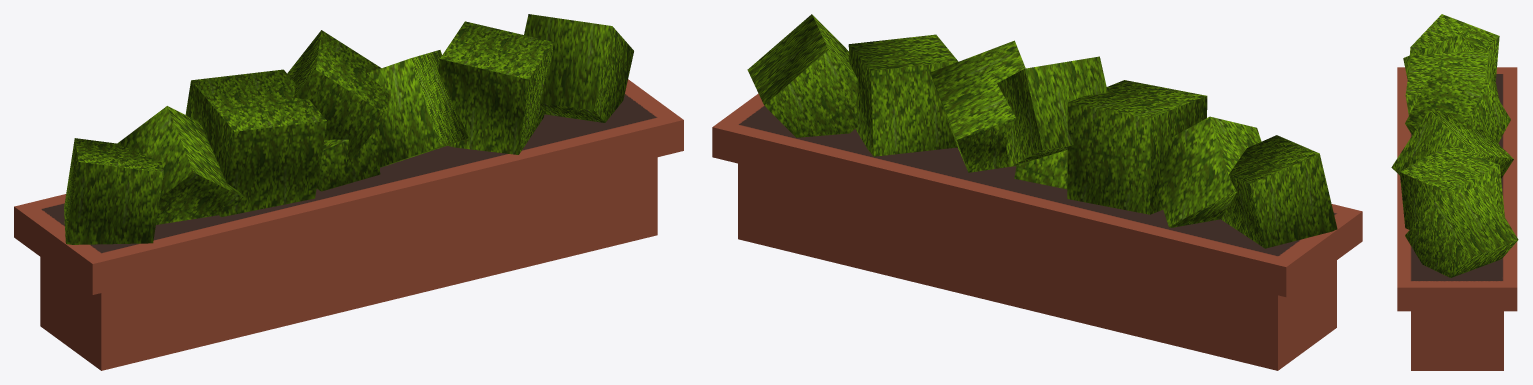
File: Foliage.fbx
The picture shows the model from 3 angles, left to right: view 1: azimuth 30°, elevation 25°; view 2: azimuth 150°, elevation 25°; view 3: azimuth 270°, elevation 25°; orthographic projection. The views are drawn at different scales.
Visible parts, largest first — view 1: Foliage; view 2: Foliage; view 3: Foliage.
Part boxes in pixels (x1=…): Foliage: x1=14, y1=14, x2=683, y2=370; Foliage: x1=712, y1=14, x2=1362, y2=370; Foliage: x1=1391, y1=14, x2=1518, y2=370.
Size of the model in its own units: 913 by 223 by 351.
